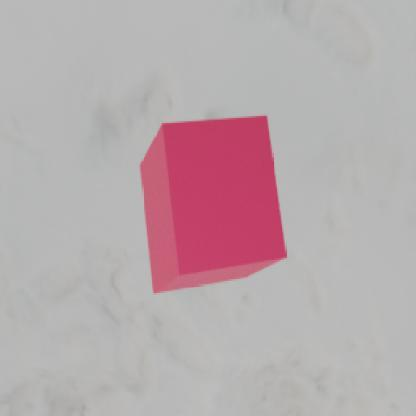cube: (138, 113, 286, 293)
